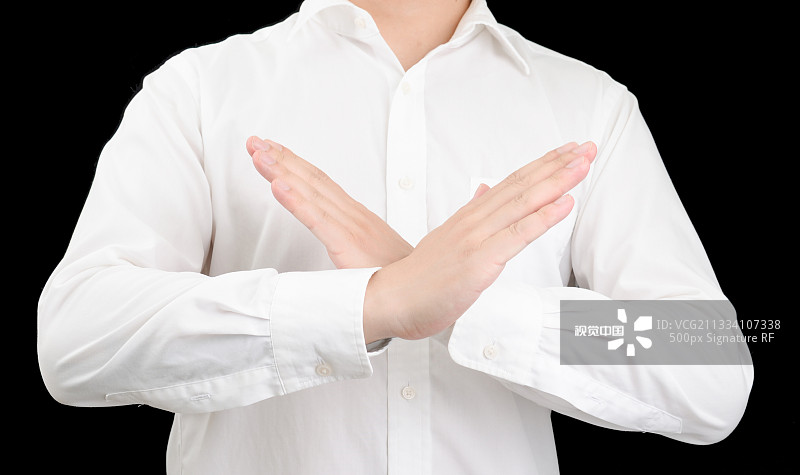no-phone: (370, 127, 605, 371), (233, 113, 425, 299)
